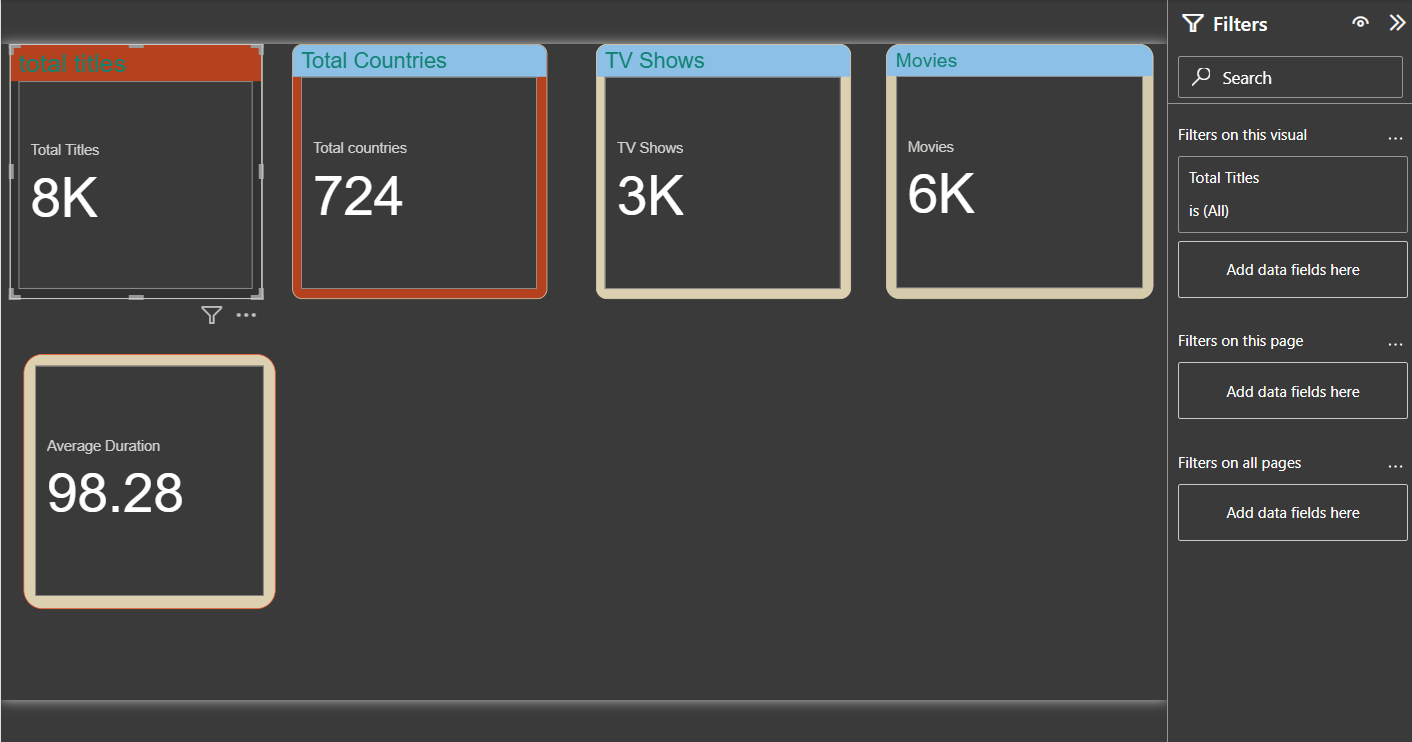

What the dashboard file says about the page in this screenshot:
{"tool":"powerbi","page":{"name":"Page 1","canvas":[1280,720],"ordinal":0},"visuals":[{"type":"cardVisual","title":"total titles","fields":{"Data":["netflix_titles.Total Titles"]},"box":[9.6,0,277.2,279.9],"z":0},{"type":"cardVisual","title":"Total Countries","fields":{"Data":["netflix_titles.Total countries"]},"box":[319.7,0,279.9,279.9],"z":1},{"type":"cardVisual","title":"TV Shows","fields":{"Data":["netflix_titles.TV Shows"]},"box":[653.2,0,279.9,279.9],"z":2},{"type":"cardVisual","title":"Movies","fields":{"Data":["netflix_titles.Movies"]},"box":[971.5,0,293.7,279.9],"z":3},{"type":"cardVisual","fields":{"Data":["netflix_titles.Average Duration"]},"box":[24.7,340.3,277.2,279.9],"z":4}]}

Visuals, with their boxes on the page's 1280x720 design canvas (x1, y1, x2, y2). These are canvas units, not pixel positions in the 1412x742 screenshot, which may show the page scaled, cropped or inside an application window:
"total titles" cardVisual: rect(10, 0, 287, 280)
"Total Countries" cardVisual: rect(320, 0, 600, 280)
"TV Shows" cardVisual: rect(653, 0, 933, 280)
"Movies" cardVisual: rect(972, 0, 1265, 280)
cardVisual - netflix_titles.Average Duration: rect(25, 340, 302, 620)
